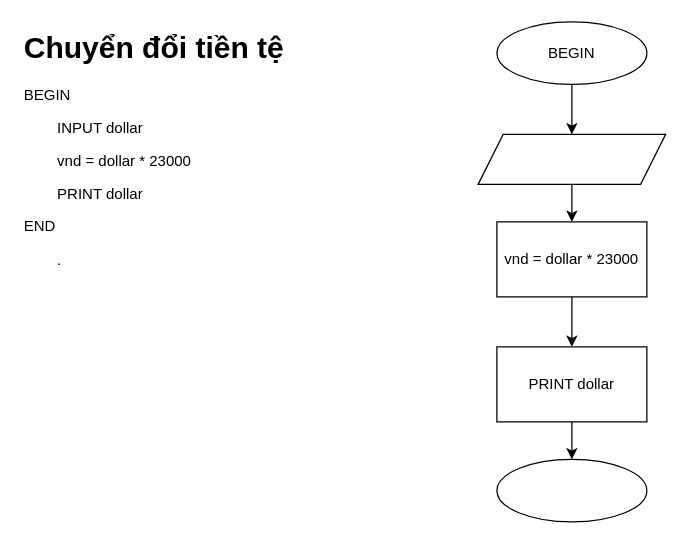
Some shapes in this 688 by 560 pixel diagram are drawn without their labels. The shapes that lost their labels are listed below. From the top down, each one's centre as x and y in pixels, then its label:
the point at 571,158: INPUT dollar
the point at 571,490: END
